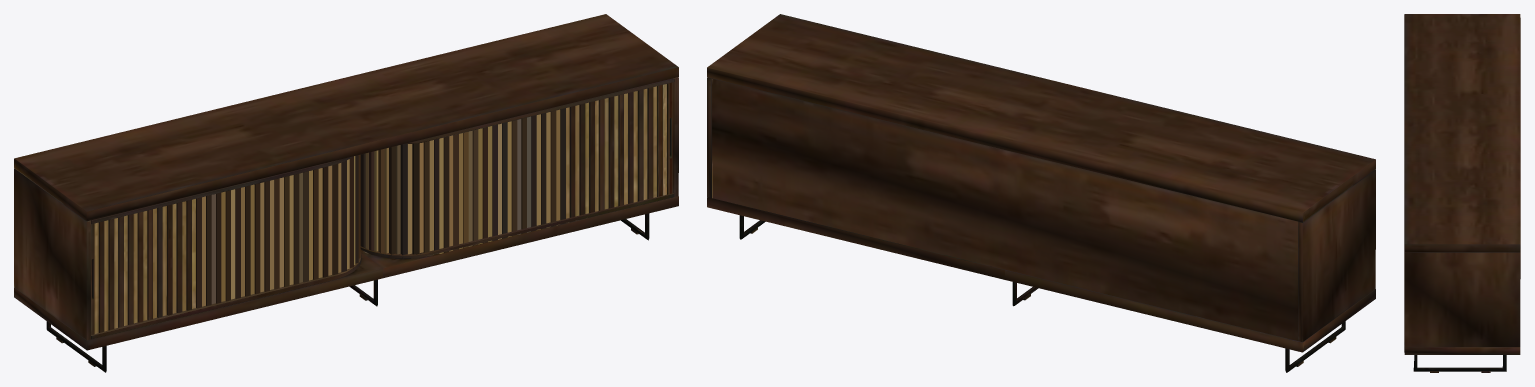
File: modern_wooden_cabinet.low.glb
3 renders of one model, left to right at view 1: azimuth 30°, elevation 25°; view 2: azimuth 150°, elevation 25°; view 3: azimuth 270°, elevation 25°, orthographic. The views are drawn at different scales.
Parts seen in each view (by area): view 1: body, slats, legs; view 2: body, legs; view 3: body, legs.
Part boxes in pixels (x1,y1,x2,y2): body: (14,14,678,350); slats: (91,82,672,334); legs: (46,213,649,372); body: (707,14,1375,352); legs: (739,215,1345,372); body: (1404,14,1520,354); legs: (1413,355,1506,372).
Bounding box in the file's own units: 2.44 × 0.6801 × 0.5201.
3 materials, 3 textured.
